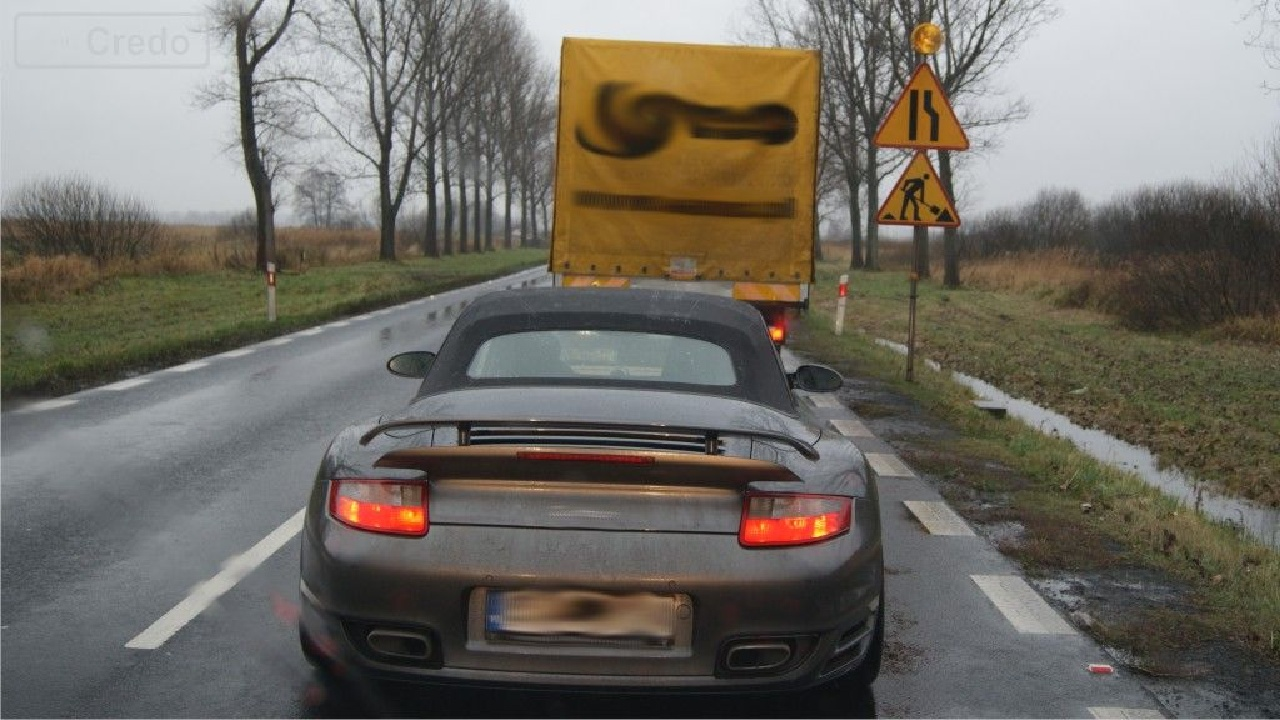A12b: (873, 65, 969, 152)
A14: (878, 150, 961, 228)
